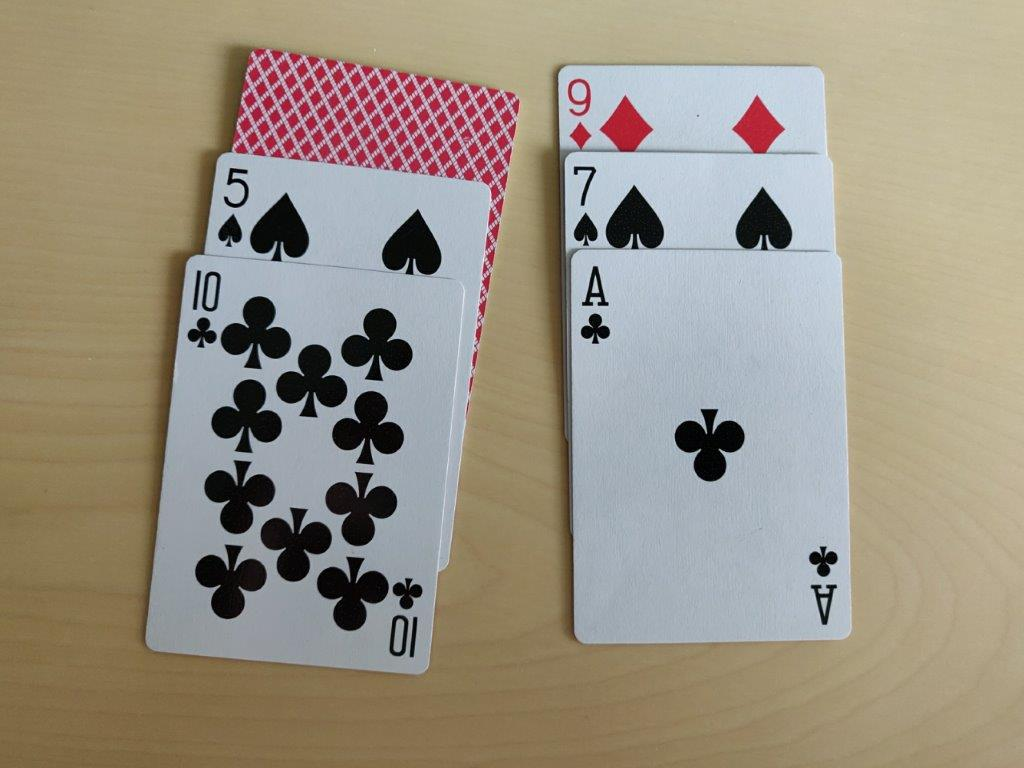10C: (184, 262, 222, 355)
5S: (217, 163, 253, 255)
7S: (569, 159, 601, 249)
9D: (560, 74, 596, 154)
AC: (575, 258, 618, 346)
BACK: (226, 48, 522, 184)
